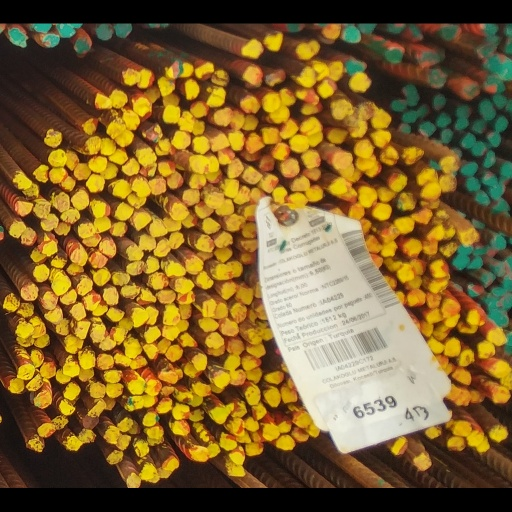dipstick: (262, 7, 283, 30), (348, 54, 371, 75), (330, 84, 353, 105), (242, 46, 262, 70), (133, 82, 152, 107), (240, 361, 262, 382), (280, 147, 300, 170), (233, 286, 253, 309), (294, 71, 319, 89), (242, 17, 263, 38), (245, 120, 265, 142), (357, 85, 377, 107), (8, 4, 27, 27), (358, 179, 377, 202), (85, 165, 105, 186), (209, 422, 230, 442), (219, 325, 239, 346), (165, 262, 186, 282), (301, 138, 321, 159), (278, 107, 299, 127), (261, 76, 281, 97), (370, 117, 391, 137), (206, 69, 225, 91), (106, 104, 125, 126), (402, 136, 424, 155), (411, 202, 433, 221), (451, 381, 470, 403), (240, 79, 260, 99), (485, 56, 505, 76), (421, 175, 441, 195), (194, 40, 213, 61), (110, 173, 131, 192), (438, 165, 457, 186), (122, 95, 140, 117), (298, 47, 316, 69), (345, 39, 367, 57), (390, 455, 408, 477), (179, 96, 195, 120), (43, 116, 62, 136), (171, 118, 190, 138), (190, 146, 209, 166), (48, 138, 67, 158), (114, 196, 133, 216), (244, 333, 263, 353), (184, 257, 204, 276), (210, 120, 230, 139), (290, 122, 309, 142), (294, 20, 314, 39), (372, 95, 391, 115), (379, 136, 398, 156), (440, 145, 460, 164), (429, 260, 449, 279), (136, 50, 154, 71), (83, 296, 101, 317), (25, 383, 43, 404), (261, 166, 279, 187), (318, 61, 336, 82), (326, 41, 344, 62), (403, 236, 421, 257), (388, 164, 406, 185), (417, 159, 438, 177), (477, 348, 495, 369), (165, 39, 182, 61), (230, 308, 247, 330), (223, 212, 245, 229), (226, 148, 243, 170), (264, 400, 281, 422), (420, 30, 442, 47), (190, 85, 209, 104), (142, 69, 161, 88), (131, 172, 150, 191), (91, 195, 110, 214), (169, 197, 188, 216), (228, 415, 247, 434), (152, 237, 171, 256), (205, 185, 224, 204), (243, 158, 262, 177), (372, 198, 391, 217), (355, 128, 374, 147), (109, 73, 127, 93), (115, 116, 133, 136), (144, 110, 162, 130), (48, 158, 68, 176), (60, 203, 80, 221), (98, 238, 116, 258), (148, 274, 168, 292), (131, 315, 149, 335), (143, 332, 161, 352), (194, 195, 214, 213), (261, 114, 281, 132), (301, 103, 321, 121), (397, 265, 415, 285), (429, 50, 447, 70), (158, 58, 175, 79), (183, 62, 200, 83), (134, 207, 151, 228), (3, 297, 20, 318), (125, 348, 142, 369), (221, 171, 238, 192), (379, 223, 400, 240), (444, 345, 460, 367), (211, 50, 229, 69), (121, 50, 140, 68), (108, 137, 127, 155), (148, 170, 167, 188), (127, 185, 146, 203), (89, 251, 107, 270), (44, 314, 63, 332), (137, 292, 156, 310), (106, 311, 125, 329), (109, 335, 128, 353), (34, 405, 52, 424), (219, 451, 237, 470), (205, 340, 224, 358), (181, 205, 199, 224), (182, 181, 200, 200), (195, 233, 214, 251), (216, 193, 234, 212), (216, 136, 235, 154), (272, 91, 290, 110), (342, 2, 360, 21), (395, 212, 414, 230), (397, 186, 415, 205), (492, 372, 511, 390), (163, 90, 180, 110), (122, 148, 139, 168), (74, 153, 91, 173), (102, 290, 119, 310), (63, 395, 80, 415), (166, 353, 183, 373), (198, 323, 218, 340), (219, 284, 236, 304), (279, 71, 296, 91), (266, 51, 286, 68), (280, 398, 297, 418), (327, 115, 347, 132), (332, 141, 352, 158), (466, 315, 486, 332), (488, 443, 508, 460), (65, 138, 79, 162), (192, 125, 210, 143), (88, 146, 106, 164), (94, 212, 112, 230), (138, 232, 156, 250), (51, 281, 69, 299), (16, 329, 34, 347), (65, 345, 83, 363), (214, 244, 232, 262), (306, 178, 324, 196), (277, 453, 295, 471), (385, 25, 403, 43), (330, 169, 348, 187), (439, 239, 457, 257), (21, 175, 40, 192), (71, 186, 88, 205), (149, 217, 168, 234), (29, 326, 46, 345), (75, 328, 92, 347), (16, 375, 35, 392), (190, 465, 209, 482), (183, 373, 202, 390), (245, 401, 262, 420), (244, 378, 261, 397), (174, 280, 193, 297), (201, 214, 220, 231), (214, 230, 233, 247), (238, 235, 257, 252), (214, 93, 231, 112), (290, 167, 309, 184), (365, 233, 382, 252), (100, 125, 116, 145), (101, 152, 117, 172), (33, 155, 49, 175), (34, 194, 50, 214), (76, 280, 92, 300), (70, 307, 86, 327), (36, 440, 56, 456), (463, 63, 479, 83), (42, 294, 57, 315), (229, 96, 244, 117), (96, 0, 113, 18), (94, 77, 112, 94), (110, 218, 128, 235), (78, 218, 95, 236), (41, 209, 58, 227), (93, 271, 110, 289), (20, 287, 37, 305), (163, 314, 180, 332), (77, 445, 95, 462), (96, 363, 113, 381), (159, 380, 177, 397), (172, 419, 190, 436), (245, 460, 263, 477), (196, 273, 213, 291), (259, 144, 276, 162), (347, 199, 364, 217), (414, 474, 431, 492), (363, 151, 381, 168), (442, 1, 460, 18), (476, 22, 494, 39), (461, 226, 478, 244), (441, 305, 459, 322), (426, 346, 444, 363), (488, 336, 506, 353), (453, 437, 471, 454), (86, 124, 102, 143), (33, 265, 49, 284), (18, 305, 34, 324), (126, 261, 145, 277), (156, 292, 175, 308), (140, 484, 156, 503), (133, 458, 149, 477), (230, 380, 246, 399), (246, 353, 265, 369), (179, 340, 198, 356), (214, 265, 233, 281), (163, 212, 182, 228), (228, 120, 244, 139), (273, 130, 289, 149), (312, 42, 328, 61), (233, 179, 249, 198), (263, 440, 279, 459), (56, 0, 76, 15), (21, 224, 36, 244), (288, 186, 308, 201), (158, 151, 175, 168), (60, 292, 77, 309), (126, 244, 143, 261), (51, 431, 68, 448), (142, 353, 159, 370), (156, 412, 173, 429), (292, 444, 309, 461), (408, 293, 425, 310), (493, 401, 510, 418), (82, 104, 98, 122), (166, 163, 182, 181), (52, 191, 70, 207), (71, 248, 87, 266), (9, 217, 25, 235), (38, 239, 56, 255), (52, 251, 68, 269), (62, 373, 80, 389), (115, 452, 131, 470), (145, 391, 161, 409), (191, 364, 207, 382), (193, 394, 211, 410), (214, 384, 230, 402), (213, 307, 229, 325), (241, 219, 257, 237), (378, 180, 396, 196), (139, 153, 158, 168), (31, 245, 46, 264), (121, 288, 140, 303), (144, 256, 159, 275), (25, 457, 44, 472), (356, 145, 375, 160), (429, 280, 448, 295), (459, 359, 474, 378), (447, 455, 466, 470), (169, 229, 183, 249), (139, 139, 156, 155), (16, 195, 32, 212), (162, 332, 178, 349), (99, 342, 115, 359), (79, 363, 95, 380), (8, 390, 24, 407), (40, 373, 56, 390), (59, 415, 75, 432), (162, 477, 179, 493), (103, 444, 119, 461), (78, 378, 94, 395), (106, 396, 123, 412), (128, 392, 144, 409), (114, 363, 130, 380), (229, 436, 245, 453), (224, 364, 240, 381), (188, 165, 205, 181), (241, 101, 257, 118), (240, 248, 256, 265), (323, 0, 340, 16), (381, 240, 397, 257), (419, 108, 435, 125), (426, 222, 443, 238), (426, 314, 443, 330), (485, 118, 501, 135), (74, 15, 89, 33), (83, 230, 101, 245), (89, 336, 107, 351), (64, 455, 82, 470), (104, 380, 122, 395), (171, 438, 189, 453), (251, 420, 266, 438), (226, 348, 244, 363), (227, 261, 242, 279), (205, 161, 223, 176), (493, 101, 508, 119), (55, 324, 69, 343), (29, 359, 43, 378), (202, 303, 216, 322), (264, 383, 283, 397), (89, 396, 105, 412), (422, 238, 438, 254), (467, 449, 483, 465), (452, 256, 468, 272), (462, 152, 478, 168), (455, 88, 471, 104), (42, 11, 59, 26), (115, 0, 132, 15), (179, 42, 194, 59), (60, 168, 75, 185), (83, 429, 98, 446), (116, 434, 133, 449), (90, 413, 105, 430), (229, 472, 246, 487), (309, 119, 324, 136), (277, 433, 292, 450), (465, 169, 480, 186), (460, 120, 475, 137), (162, 76, 180, 90), (242, 199, 256, 217), (250, 180, 264, 198), (145, 312, 158, 331), (433, 77, 446, 96), (54, 218, 70, 233), (67, 262, 83, 277), (34, 342, 50, 357), (113, 273, 129, 288), (56, 380, 71, 396), (106, 469, 122, 484), (128, 410, 143, 426), (142, 408, 158, 423), (142, 428, 158, 443), (244, 433, 259, 449), (338, 153, 353, 169), (296, 428, 311, 444), (467, 255, 483, 270), (474, 185, 490, 200), (482, 163, 497, 179), (436, 99, 451, 115), (147, 443, 164, 457), (178, 309, 192, 326), (425, 443, 442, 457), (16, 342, 34, 355), (177, 295, 195, 308), (483, 140, 496, 158), (458, 329, 477, 341), (190, 423, 205, 438), (491, 234, 506, 249), (470, 130, 485, 145), (477, 83, 492, 98), (127, 495, 141, 511), (427, 297, 441, 313), (192, 105, 205, 122), (157, 347, 170, 364), (400, 96, 417, 109), (154, 131, 169, 145), (306, 158, 320, 173), (468, 287, 483, 301), (454, 103, 469, 117), (472, 106, 486, 121), (33, 0, 52, 11), (159, 124, 172, 140), (391, 83, 407, 96), (440, 116, 453, 132), (15, 170, 32, 182), (207, 355, 224, 367), (189, 408, 203, 422), (207, 463, 220, 478), (476, 458, 489, 473), (444, 321, 460, 333), (403, 67, 418, 79), (421, 330, 433, 345), (501, 153, 512, 169), (103, 412, 116, 425), (501, 300, 512, 315), (162, 398, 174, 411), (417, 89, 429, 102), (178, 326, 189, 339), (408, 78, 419, 90), (398, 109, 410, 120), (211, 398, 224, 408)
